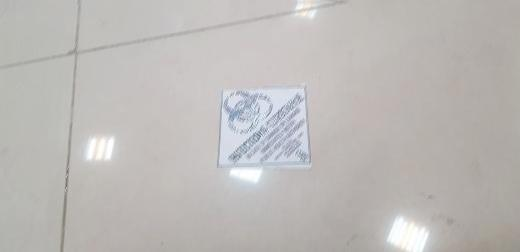infectious-substance: (217, 86, 311, 166)
